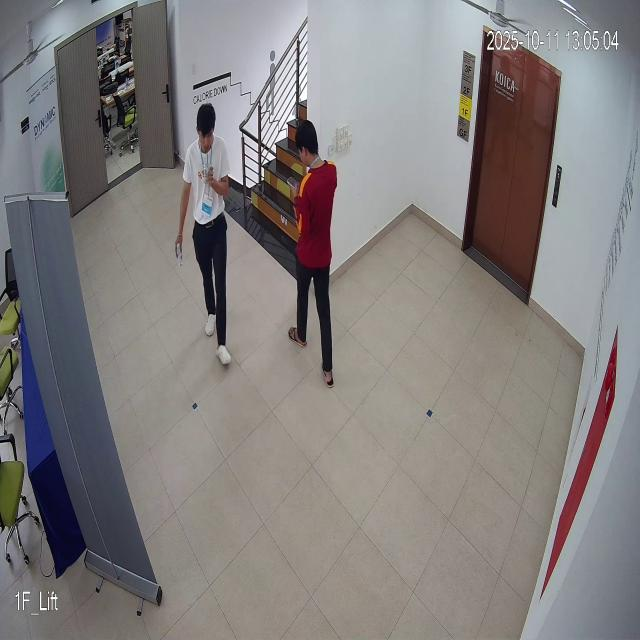face: (193, 96, 220, 158)
